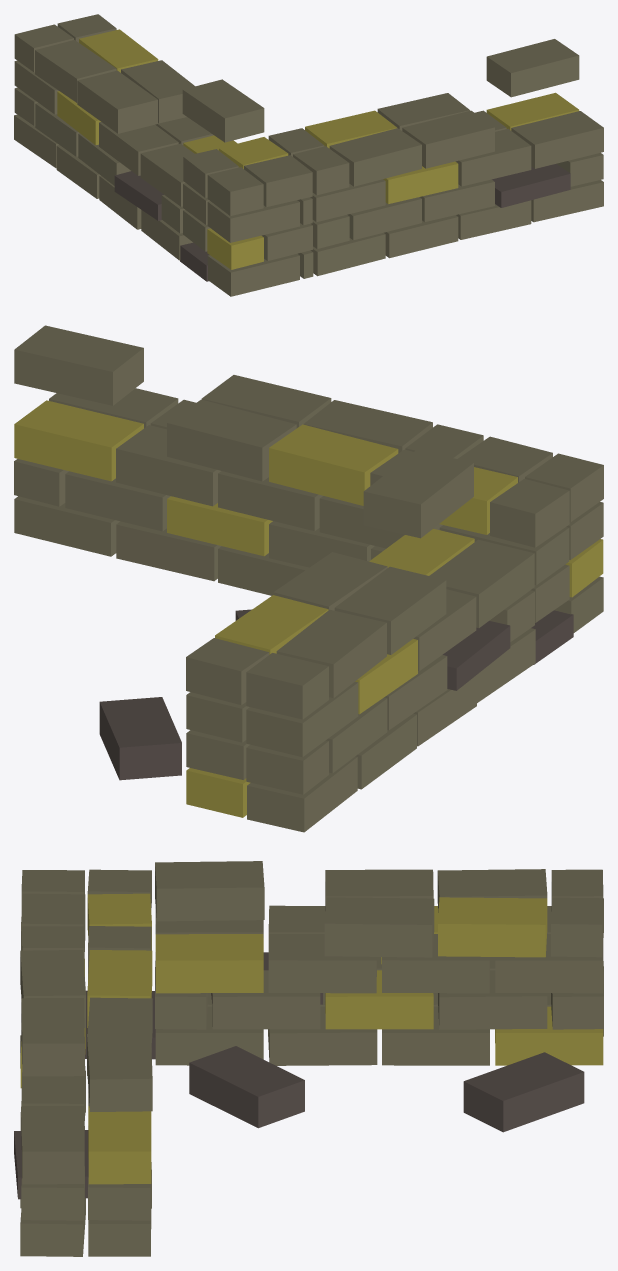
File: SM_PretilEsquina_v2_Irregular_e1_Danado_LOD0.fbx
3 views of the same model, one above another, from view 1: azimuth 30°, elevation 25°; view 2: azimuth 150°, elevation 25°; view 3: azimuth 270°, elevation 25° (orthographic). The views are drawn at different scales.
Parts seen in each view (by area): view 1: SM_pretil_azotea_v29_LOD0; view 2: SM_pretil_azotea_v29_LOD0; view 3: SM_pretil_azotea_v29_LOD0.
Part boxes in pixels (x1,y1,x2,y2): SM_pretil_azotea_v29_LOD0: (14,14,603,296); SM_pretil_azotea_v29_LOD0: (14,325,603,832); SM_pretil_azotea_v29_LOD0: (14,861,603,1256).
Size of the model in its own units: 4.43 by 1.49 by 4.43.
